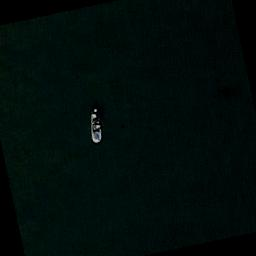boat: (84, 106, 106, 144)
